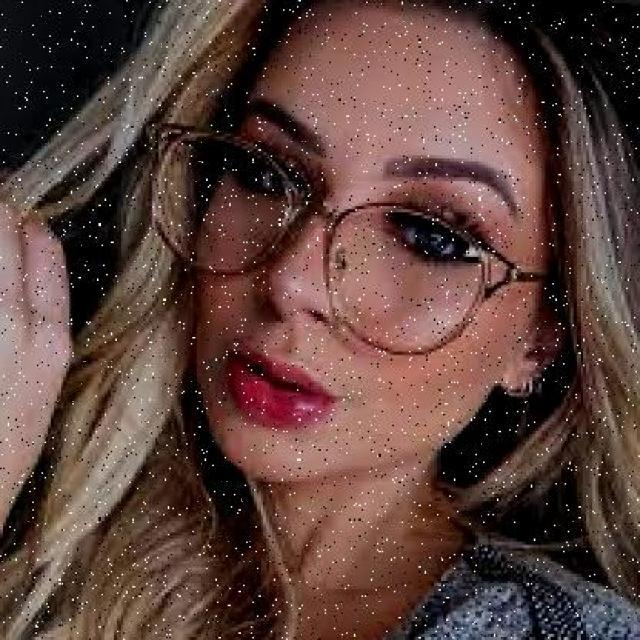glasses: (132, 102, 536, 376)
